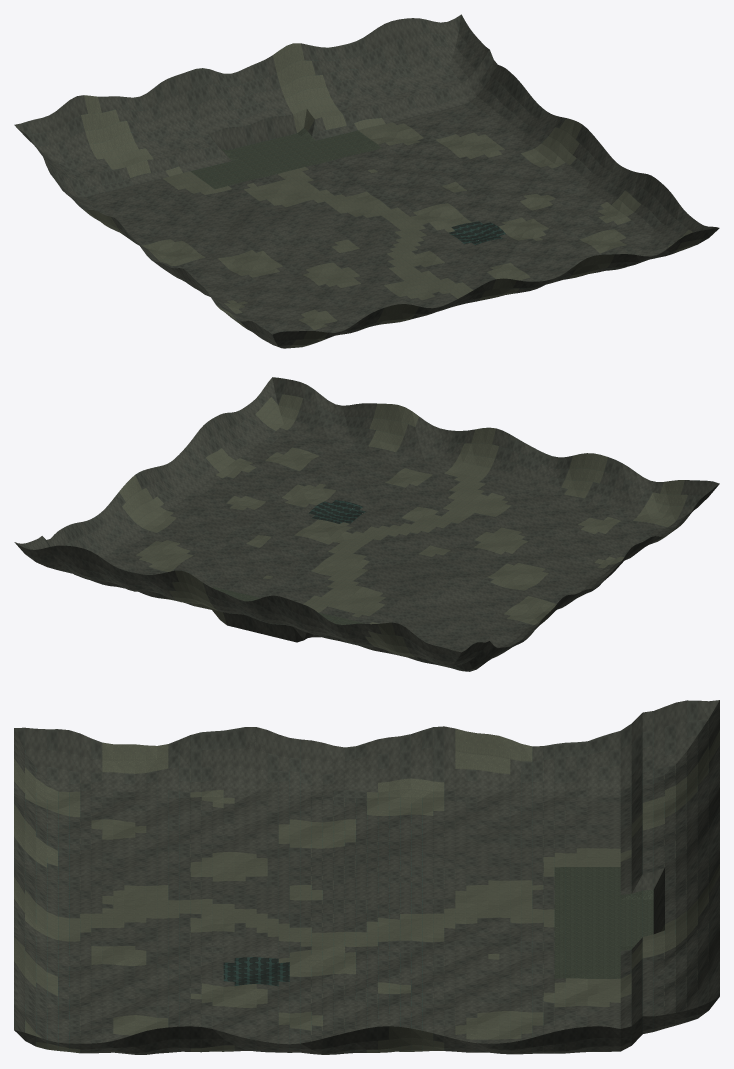
Rendered from SM_Forest_Terrain_Test_12800x12800x1840.fbx.
3 views of the same model, one above another, from view 1: azimuth 30°, elevation 25°; view 2: azimuth 150°, elevation 25°; view 3: azimuth 270°, elevation 25° (orthographic). The views are drawn at different scales.
Parts seen in each view (by area): view 1: SM_Forest_Terrain_Test_12800x12800x1840.001; view 2: SM_Forest_Terrain_Test_12800x12800x1840.001; view 3: SM_Forest_Terrain_Test_12800x12800x1840.001.
Part boxes in pixels (box(x1,y1,x2,y2)): SM_Forest_Terrain_Test_12800x12800x1840.001: box(14, 14, 719, 348); SM_Forest_Terrain_Test_12800x12800x1840.001: box(14, 377, 719, 671); SM_Forest_Terrain_Test_12800x12800x1840.001: box(14, 700, 719, 1054).
Bounding box in the file's own units: 128 × 19.61 × 128.
